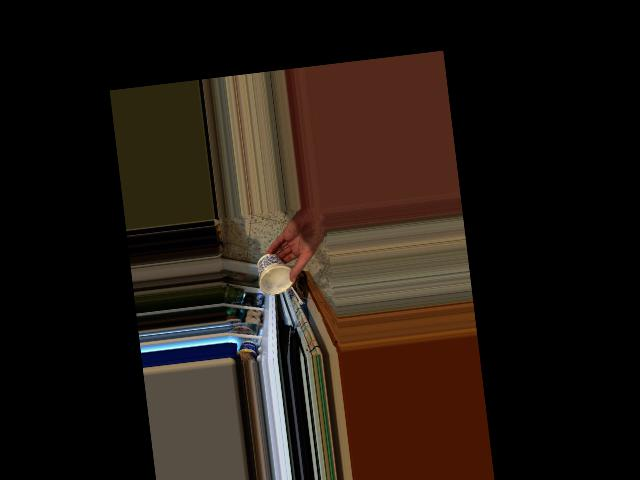cotage: (257, 253, 295, 290)
